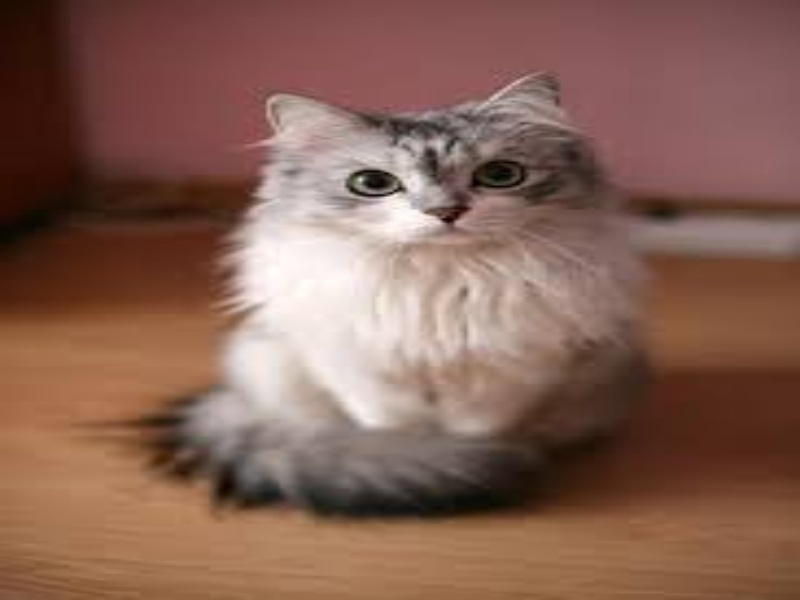cat: (179, 72, 648, 527)
